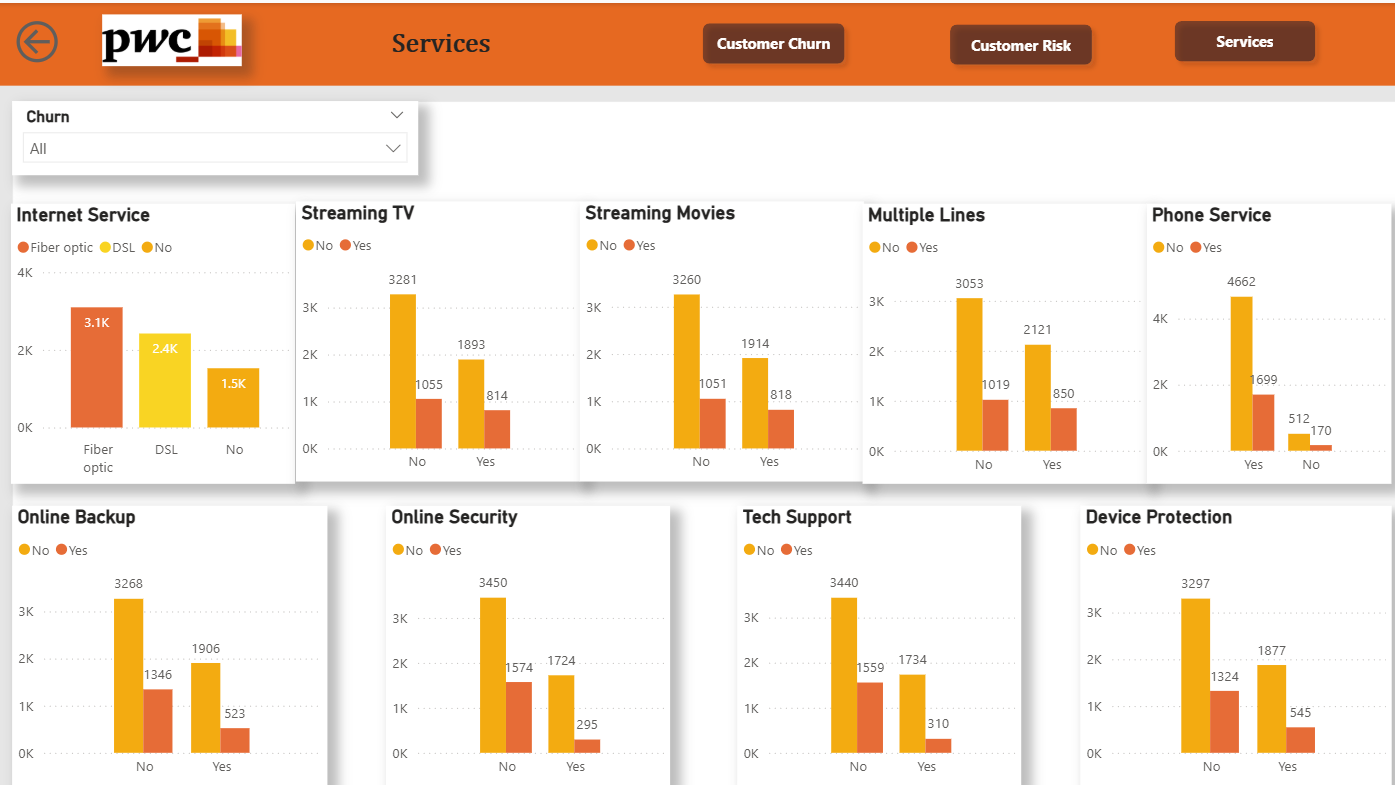

This screenshot's page, from the dashboard's own definition file:
{"tool":"powerbi","page":{"name":"Services","canvas":[1280,720],"ordinal":3},"visuals":[{"type":"shape","box":[0,0,1280,74.3],"z":0},{"type":"shape","box":[15,88.3,1251.7,615],"z":1000},{"type":"columnChart","title":" Internet Service","fields":{"Y":["CountNonNull(01 Churn-Dataset.Churn)"],"Category":["01 Churn-Dataset.InternetService"],"Series":["01 Churn-Dataset.InternetService"]},"box":[14.7,180.4,254.9,251.8],"z":2000},{"type":"clusteredColumnChart","title":"Streaming TV","fields":{"Y":["CountNonNull(01 Churn-Dataset.StreamingTV)"],"Category":["01 Churn-Dataset.StreamingTV"],"Series":["01 Churn-Dataset.Churn"]},"box":[270,178.3,255,251.7],"z":3000},{"type":"clusteredColumnChart","title":"Streaming Movies","fields":{"Y":["CountNonNull(01 Churn-Dataset.StreamingMovies)"],"Category":["01 Churn-Dataset.StreamingMovies"],"Series":["01 Churn-Dataset.Churn"]},"box":[525,178.3,255,251.7],"z":4000},{"type":"clusteredColumnChart","title":"Multiple Lines","fields":{"Y":["CountNonNull(01 Churn-Dataset.MultipleLines)"],"Category":["01 Churn-Dataset.MultipleLines"],"Series":["01 Churn-Dataset.Churn"]},"box":[780,180,255,251.7],"z":5000},{"type":"clusteredColumnChart","title":"Online Backup","fields":{"Y":["CountNonNull(01 Churn-Dataset.OnlineBackup)"],"Category":["01 Churn-Dataset.OnlineBackup"],"Series":["01 Churn-Dataset.Churn"]},"box":[15,451.7,283.3,251.7],"z":6000},{"type":"clusteredColumnChart","title":"Online Security","fields":{"Y":["CountNonNull(01 Churn-Dataset.OnlineSecurity)"],"Category":["01 Churn-Dataset.OnlineSecurity"],"Series":["01 Churn-Dataset.Churn"]},"box":[351.7,451.7,255,251.7],"z":7000},{"type":"clusteredColumnChart","title":"Tech Support","fields":{"Category":["01 Churn-Dataset.TechSupport"],"Series":["01 Churn-Dataset.Churn"],"Y":["CountNonNull(01 Churn-Dataset.TechSupport)"]},"box":[666.7,451.7,255,251.7],"z":8000},{"type":"clusteredColumnChart","title":"Phone Service","fields":{"Category":["01 Churn-Dataset.PhoneService"],"Series":["01 Churn-Dataset.Churn"],"Y":["CountNonNull(01 Churn-Dataset.PhoneService)"]},"box":[1035,180,220,251.7],"z":9000},{"type":"clusteredColumnChart","title":"Device Protection","fields":{"Category":["01 Churn-Dataset.DeviceProtection"],"Series":["01 Churn-Dataset.Churn"],"Y":["CountNonNull(01 Churn-Dataset.DeviceProtection)"]},"box":[975,451.7,280,251.7],"z":10000},{"type":"slicer","fields":{"Values":["01 Churn-Dataset.Churn"]},"box":[15,88.3,365,66.7],"z":11000},{"type":"actionButton","box":[626.8,8.8,145.5,54.3],"z":12000,"group":"g1"},{"type":"actionButton","box":[849.1,10.3,145.5,54.3],"z":13000,"group":"g1"},{"type":"actionButton","box":[1050.9,6.8,144.4,54.3],"z":14000,"group":"g1"},{"type":"textbox","box":[351.7,18.3,163.3,43.3],"z":16000},{"type":"image","box":[96.7,10,125,46.7],"z":17000},{"type":"actionButton","box":[13.3,10,51.7,48.3],"z":18000},{"type":"group","id":"g1","title":"Group 1","box":[626.8,6.8,568.5,57.8],"z":18001}]}

Visuals, with their boxes in screenshot pixels (x1, y1, x2, y2), scaled from the page's 1280x720 canvas onto the 1395x785 screenshot:
shape: l=0, t=0, r=1394, b=81
shape: l=16, t=96, r=1381, b=767
" Internet Service" columnChart: l=16, t=197, r=294, b=471
"Streaming TV" clusteredColumnChart: l=294, t=194, r=572, b=469
"Streaming Movies" clusteredColumnChart: l=572, t=194, r=850, b=469
"Multiple Lines" clusteredColumnChart: l=850, t=196, r=1128, b=471
"Online Backup" clusteredColumnChart: l=16, t=492, r=325, b=767
"Online Security" clusteredColumnChart: l=383, t=492, r=661, b=767
"Tech Support" clusteredColumnChart: l=727, t=492, r=1005, b=767
"Phone Service" clusteredColumnChart: l=1128, t=196, r=1368, b=471
"Device Protection" clusteredColumnChart: l=1063, t=492, r=1368, b=767
slicer - 01 Churn-Dataset.Churn: l=16, t=96, r=414, b=169
actionButton: l=683, t=10, r=842, b=69
actionButton: l=925, t=11, r=1084, b=70
actionButton: l=1145, t=7, r=1303, b=67
textbox: l=383, t=20, r=561, b=67
image: l=105, t=11, r=242, b=62
actionButton: l=14, t=11, r=71, b=64
"Group 1" group: l=683, t=7, r=1303, b=70
